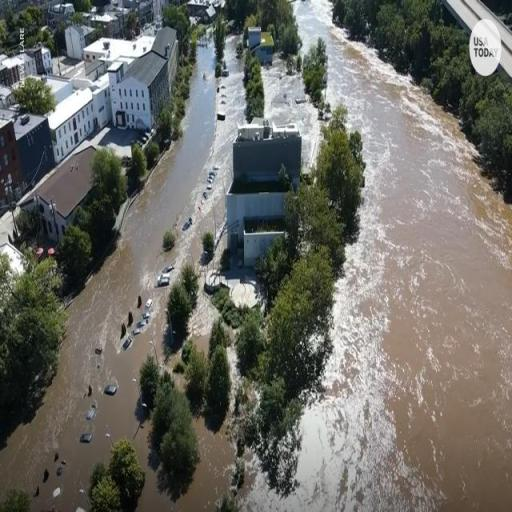flood: (242, 0, 512, 512), (0, 43, 244, 512), (171, 325, 240, 512), (177, 228, 228, 357), (265, 67, 320, 164), (158, 325, 185, 392)
house: (24, 144, 102, 238), (110, 38, 173, 135), (40, 80, 102, 164), (0, 47, 38, 87), (86, 34, 130, 62), (62, 24, 92, 60), (189, 0, 218, 22), (243, 23, 266, 50)
